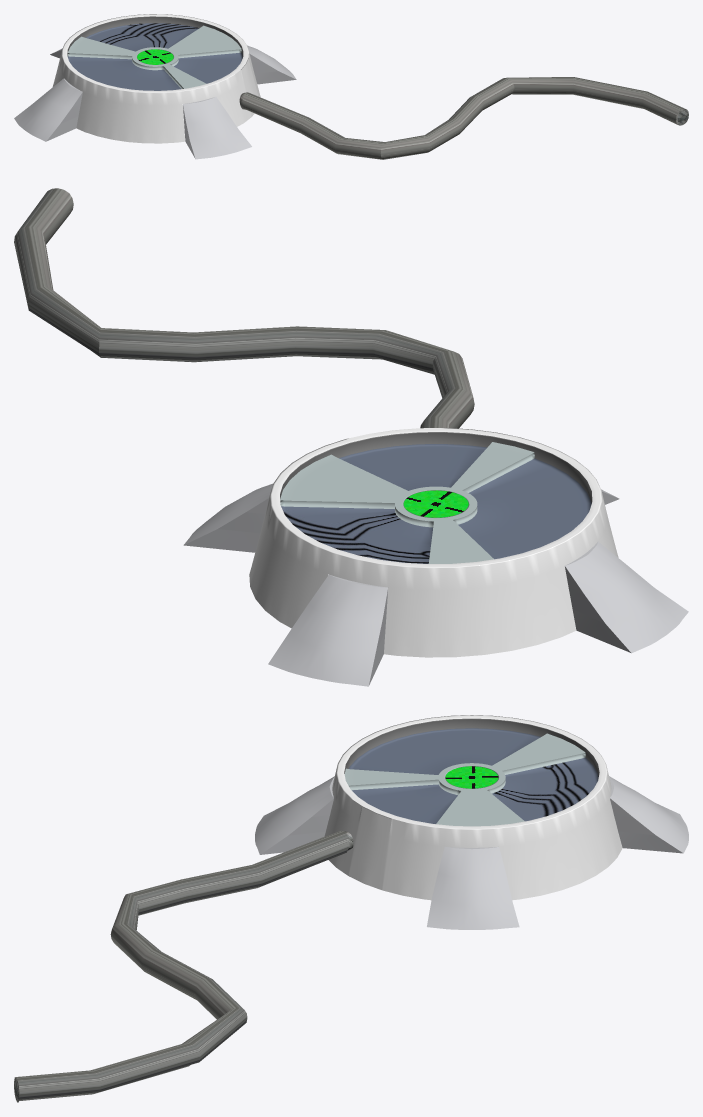
Rendered from Plataforma.obj.
The picture shows the model from 3 angles, top to bottom: view 1: azimuth 30°, elevation 25°; view 2: azimuth 150°, elevation 25°; view 3: azimuth 270°, elevation 25°; orthographic projection. The views are drawn at different scales.
Visible parts, largest first — view 1: pCube2; view 2: pCube2; view 3: pCube2.
Part boxes in pixels (box(x1,y1,x2,y2)): pCube2: box(14, 14, 688, 159); pCube2: box(14, 188, 688, 686); pCube2: box(14, 715, 688, 1102).
Size of the model in its own units: 10.3 by 0.9396 by 8.19.
Materials: 7 (6 with a texture image).
